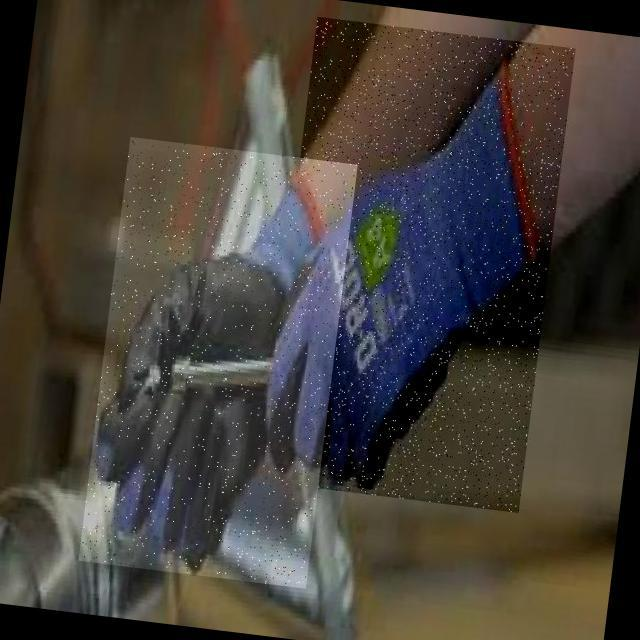Gloves: (260, 17, 575, 513), (78, 137, 357, 589)
